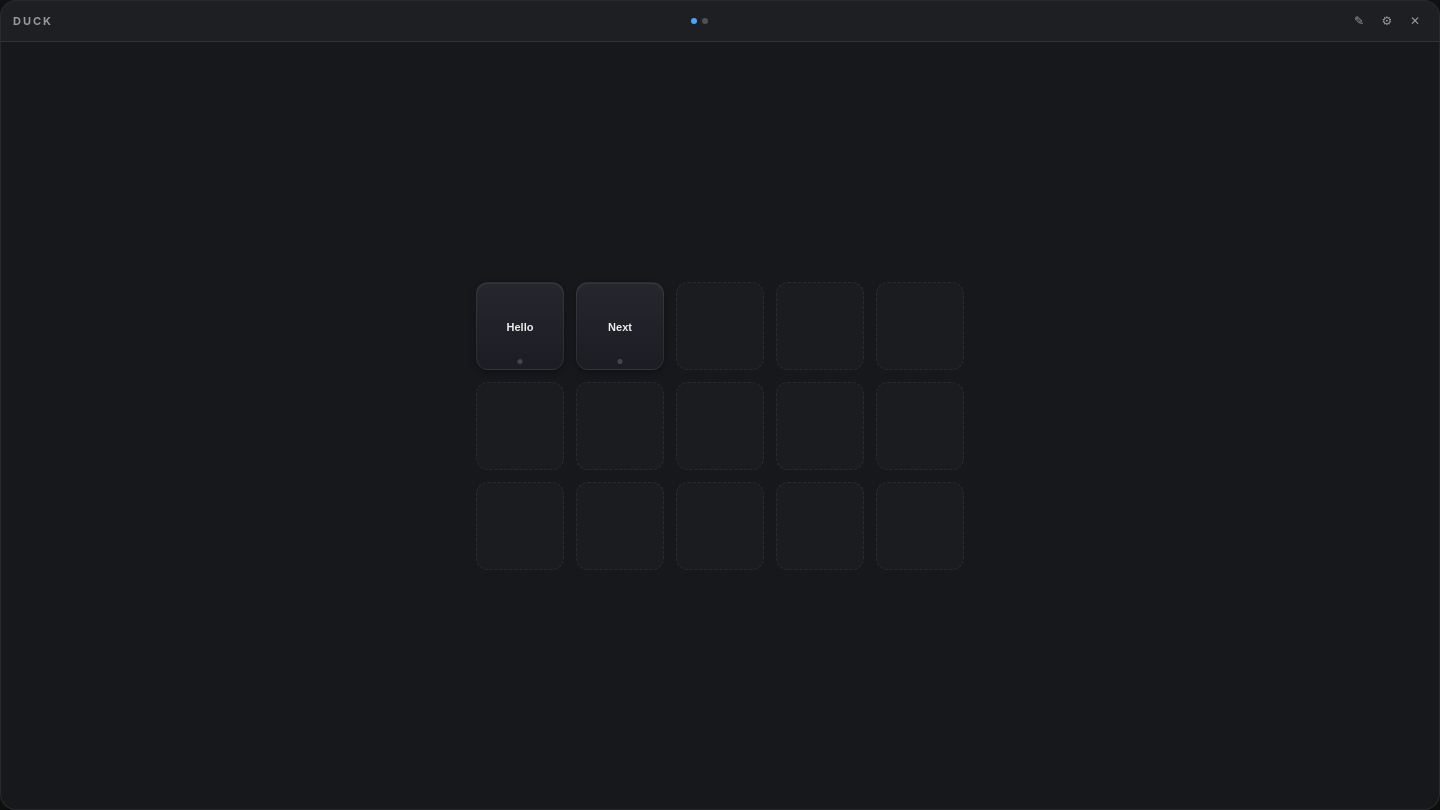
Test: App › navigates between pages with navigate actions
Step 1. Click the button "Next" → {"x": 620, "y": 326}, box [576,282,664,370]
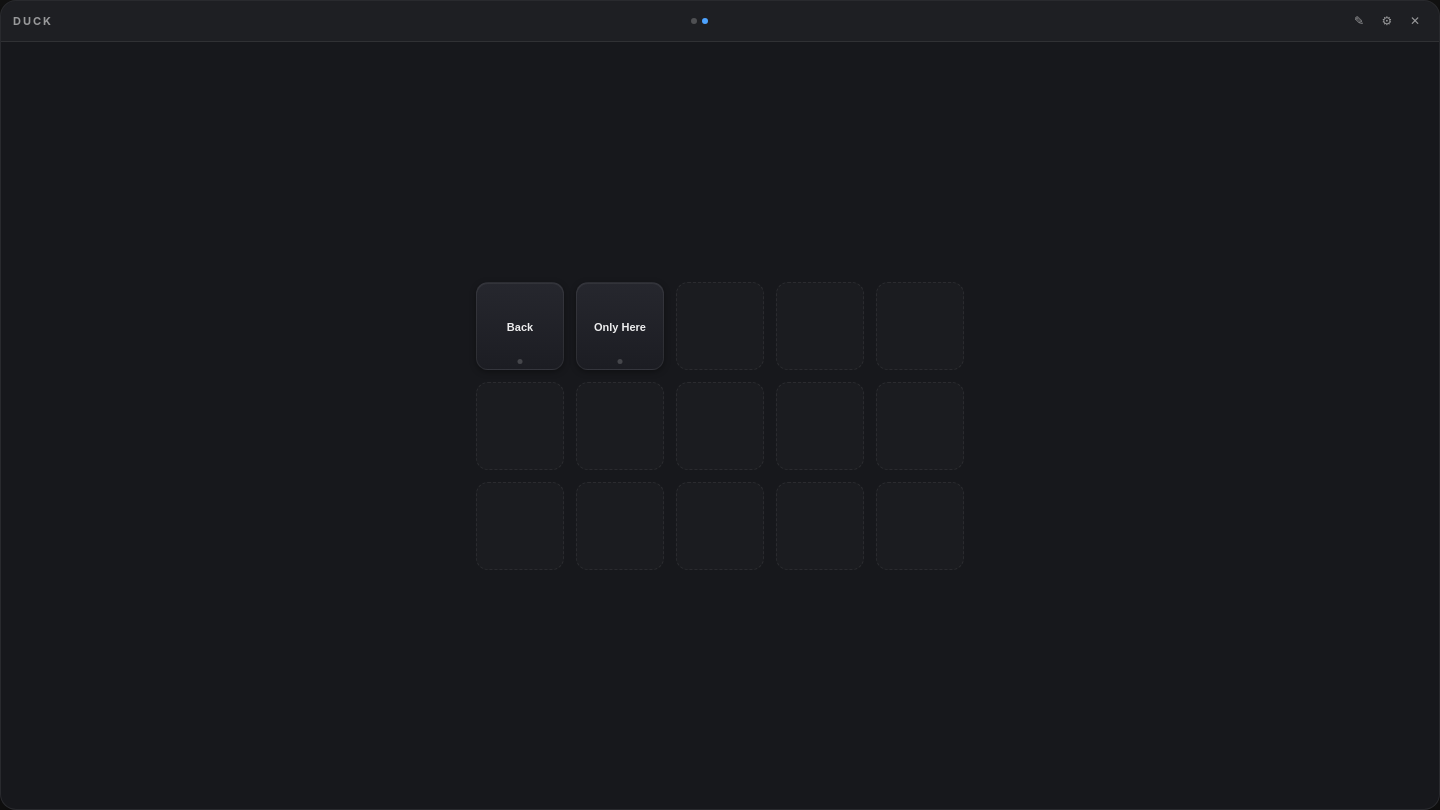
Expected: the button "Only Here" is shown, [576,282,664,370]
Step 2. Click the button "Back" → {"x": 520, "y": 326}, box [476,282,564,370]
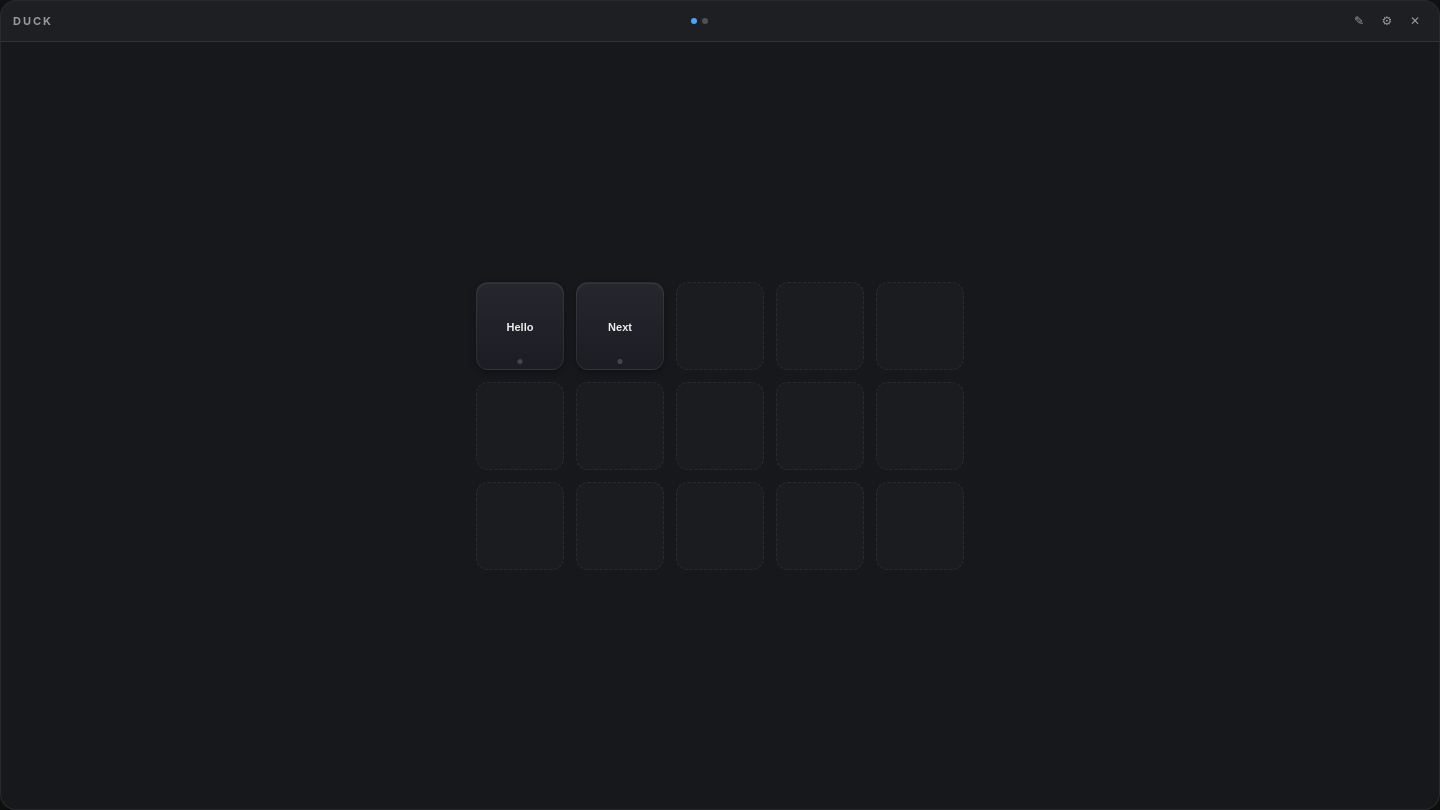
Expected: the button "Hello" is shown, [476,282,564,370]
